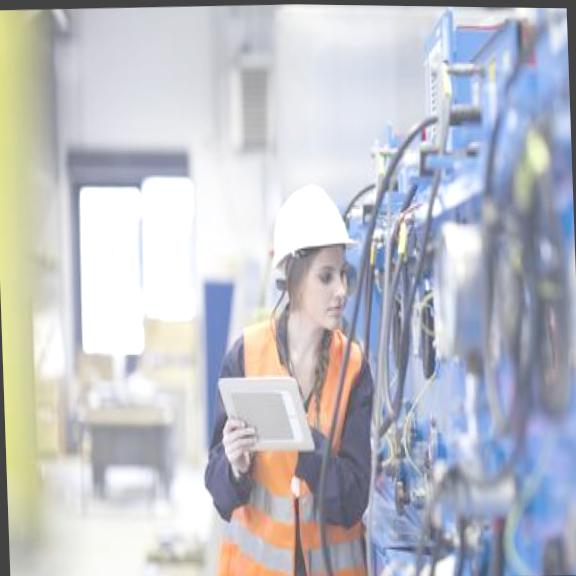safety_vest: (209, 311, 374, 576)
